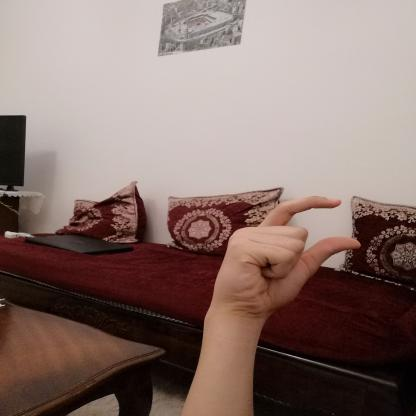DELL: (208, 188, 371, 318)
